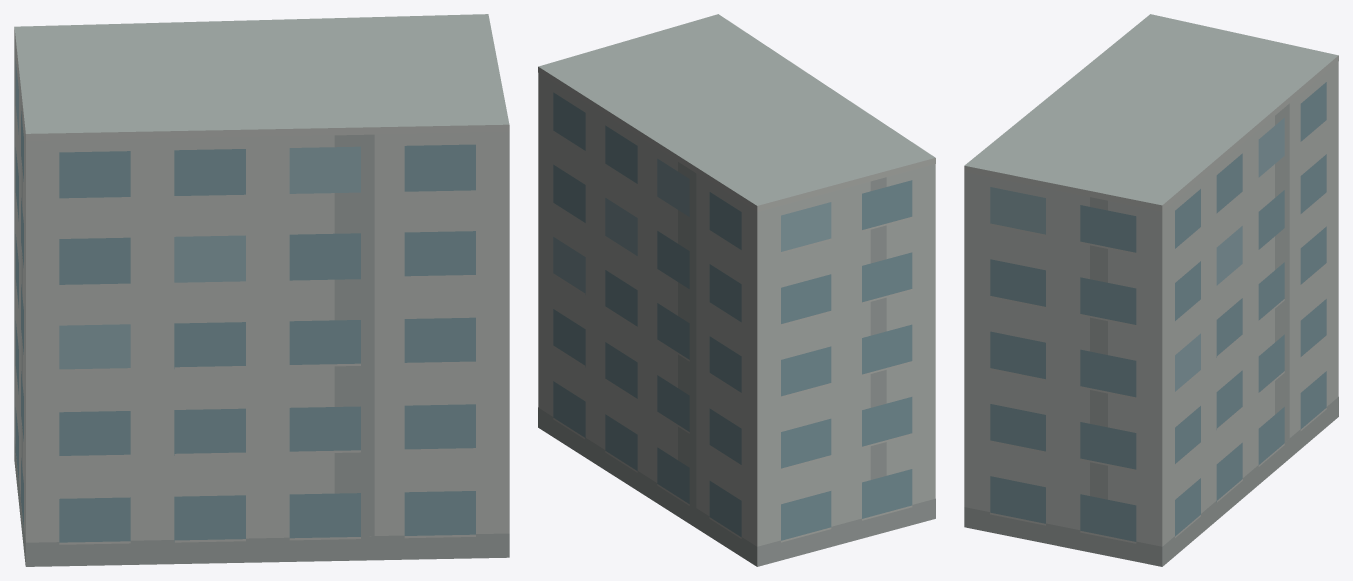
The model's file is survey-upis-32843737.glb.
The picture shows the model from 3 angles, left to right: view 1: azimuth 30°, elevation 25°; view 2: azimuth 150°, elevation 25°; view 3: azimuth 270°, elevation 25°; orthographic projection. The views are drawn at different scales.
Parts seen in each view (by area): view 1: survey-upis-32843737.tmp; view 2: survey-upis-32843737.tmp; view 3: survey-upis-32843737.tmp.
Boxes of the visible parts, bbox=[...] form: survey-upis-32843737.tmp: bbox=[14, 14, 509, 566]; survey-upis-32843737.tmp: bbox=[538, 14, 935, 566]; survey-upis-32843737.tmp: bbox=[964, 14, 1338, 566].
Size of the model in its own units: 16.25 by 14.3 by 13.43.
